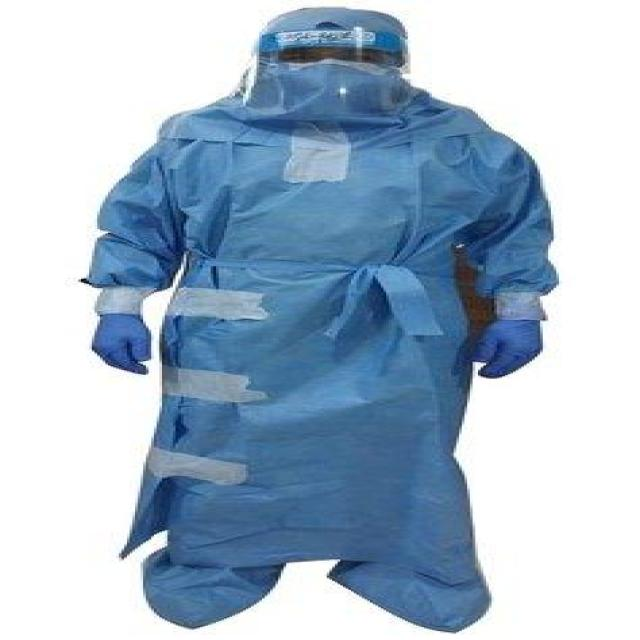Coverall: (81, 4, 567, 640)
Gloves: (473, 319, 554, 383), (87, 311, 160, 374)
